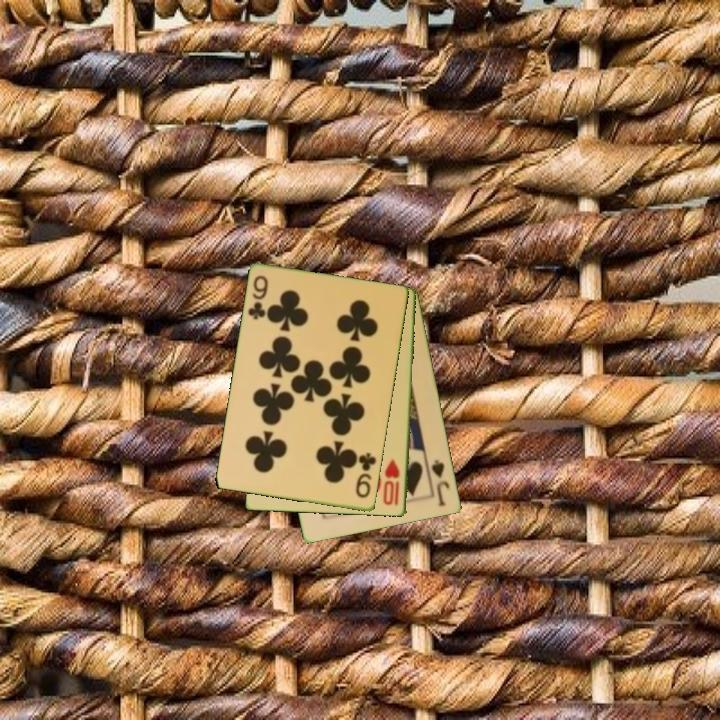10h: (381, 456, 403, 509)
9c: (352, 449, 379, 501), (245, 272, 271, 323)
Js: (428, 456, 452, 509)
